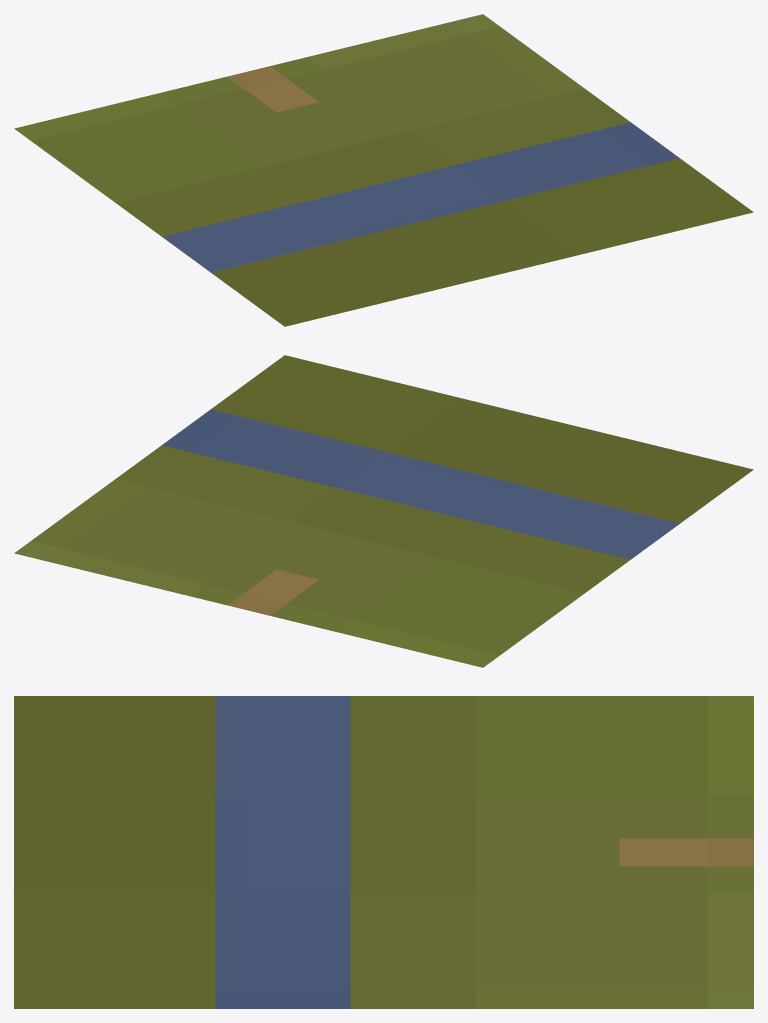
The model's file is PlaceholderRiver.fbx.
3 renders of one model, top to bottom at view 1: azimuth 30°, elevation 25°; view 2: azimuth 150°, elevation 25°; view 3: azimuth 270°, elevation 25°, orthographic. The views are drawn at different scales.
Visible parts, largest first — view 1: Plane.002; view 2: Plane.002; view 3: Plane.002.
Boxes of the visible parts, left/top/right/bottom form: Plane.002: left=14, top=14, right=753, bottom=326; Plane.002: left=14, top=355, right=753, bottom=667; Plane.002: left=14, top=696, right=753, bottom=1008.
Size of the model in its own units: 1041 by 0.00017 by 1041.
